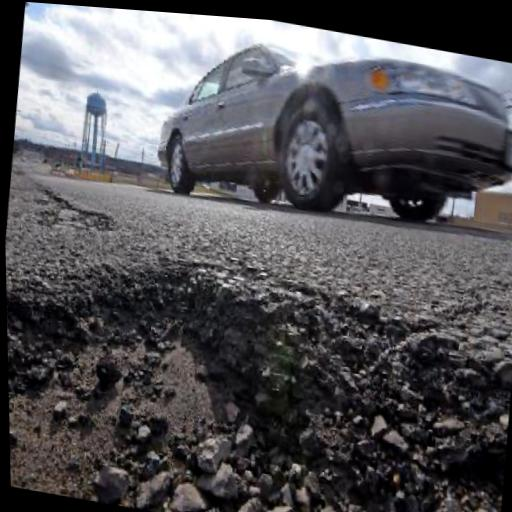pothole: (5, 221, 512, 512), (68, 205, 121, 236)
